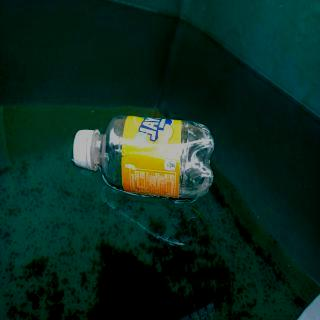bottle: (71, 112, 217, 204)
